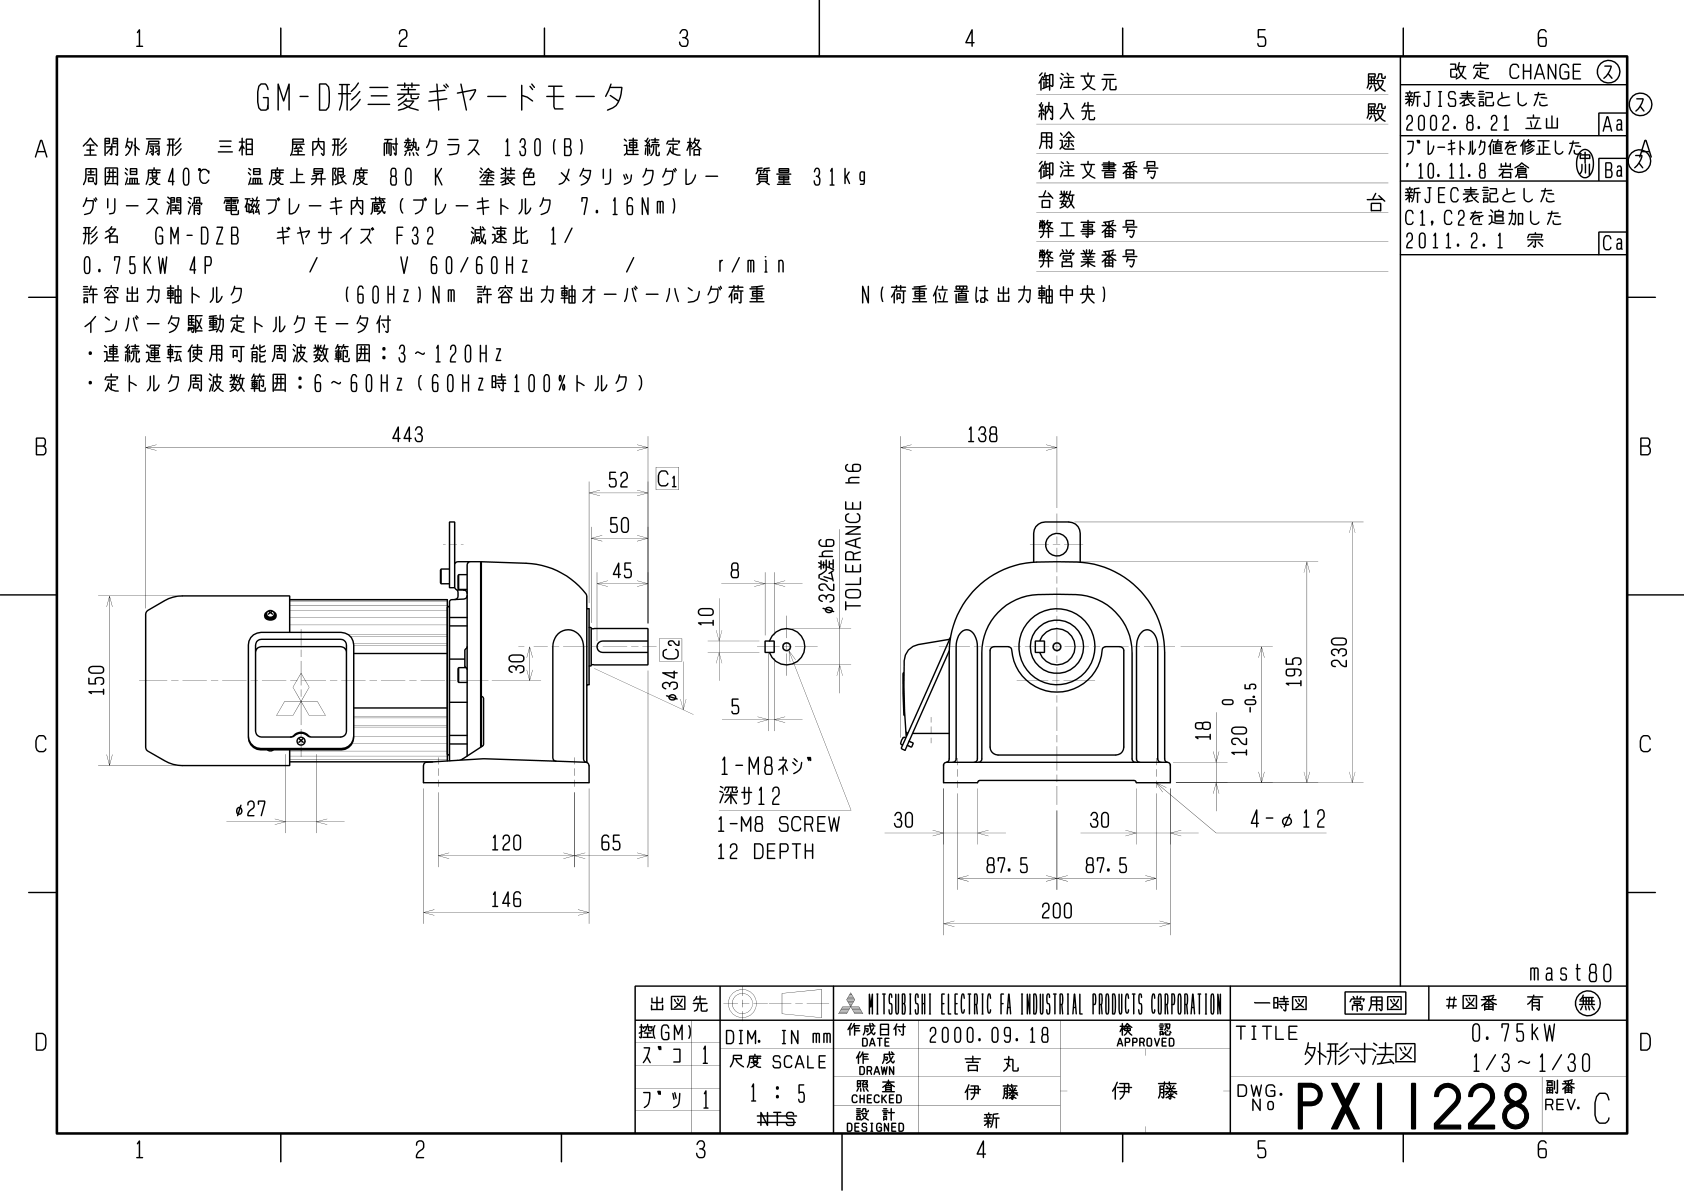GM_D_インバータ屋内_三相_脚: (1, 1, 1667, 1181)
